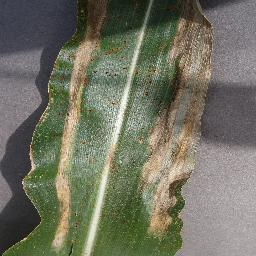Corn_Blight: (37, 52, 60, 256), (60, 0, 115, 80), (174, 1, 217, 92), (140, 185, 186, 245), (158, 92, 207, 148), (136, 147, 199, 184), (59, 82, 71, 256), (71, 81, 89, 138), (0, 235, 31, 256), (72, 137, 96, 164), (139, 112, 158, 146), (105, 147, 122, 175), (26, 132, 35, 180), (134, 78, 154, 97), (130, 66, 159, 77), (164, 36, 174, 66), (117, 36, 129, 57), (70, 209, 79, 232), (90, 103, 97, 120), (110, 97, 117, 111)
